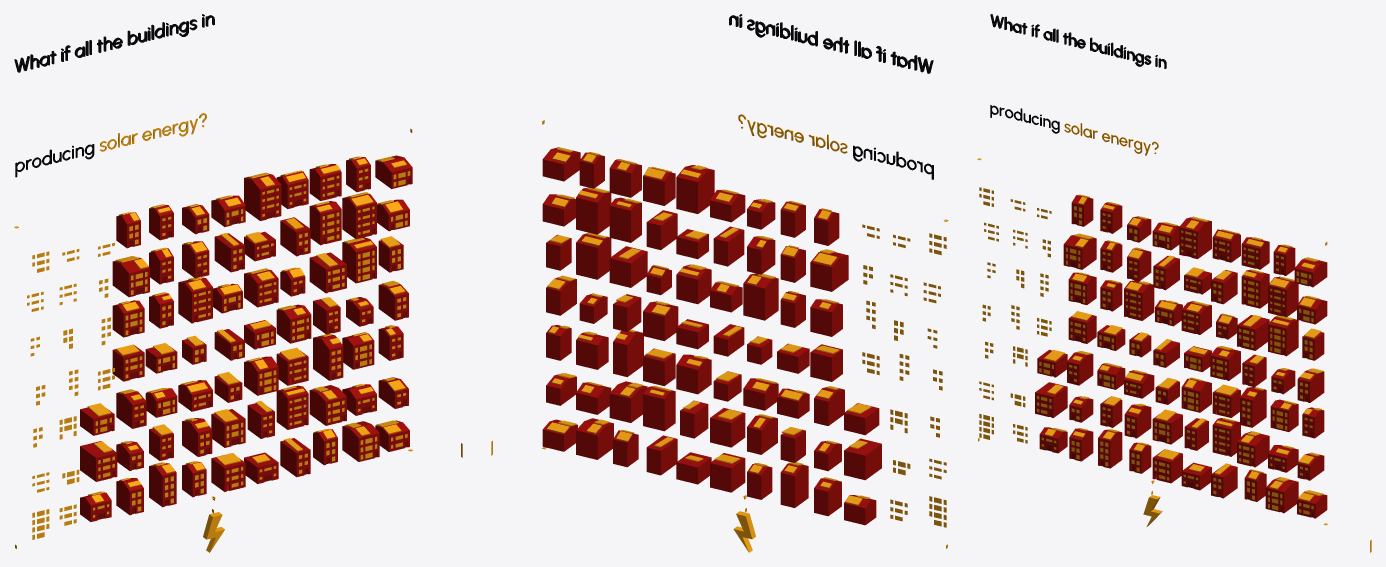
The model's file is Sahne3.gltf.
The picture shows the model from 3 angles, left to right: view 1: azimuth 30°, elevation 25°; view 2: azimuth 150°, elevation 25°; view 3: azimuth 330°, elevation 25°; orthographic projection. The views are drawn at different scales.
Parts seen in each view (by area): view 1: Text.017, Building_049.019, Building_037.019, Building_071.017, Building_061.019, Building_067.019, Building_020.018, Building_072.017, Building_064.019, Building_068.019, Building_076.017, Building_065.019 (+53 smaller); view 2: Text.017, Building_049.019, Building_037.019, Building_071.017, Building_072.017, Building_064.019, Building_061.019, Building_020.018, Building_065.019, Building_067.019, Building_076.017, Building_022.019 (+56 smaller); view 3: Text.017, Building_049.019, Building_037.019, Building_072.017, Building_071.017, Building_067.019, Building_020.018, Building_061.019, Building_076.017, Building_068.019, Building_022.019, Building_064.019 (+48 smaller).
Boxes of the visible parts, box(x1,y1,x2,y2) form: Text.017: box(14, 14, 214, 72); Building_049.019: box(244, 174, 281, 220); Building_037.019: box(178, 277, 212, 323); Building_071.017: box(342, 193, 376, 239); Building_061.019: box(276, 385, 308, 429); Building_067.019: box(313, 335, 343, 380); Building_020.018: box(80, 441, 117, 481); Building_072.017: box(342, 237, 376, 283); Building_064.019: box(309, 201, 341, 245); Building_068.019: box(309, 385, 346, 425); Building_076.017: box(342, 421, 379, 461); Building_065.019: box(309, 252, 346, 293); Text.017: box(729, 14, 933, 73); Building_049.019: box(676, 165, 714, 213); Building_037.019: box(743, 273, 778, 320); Building_071.017: box(576, 188, 611, 234); Building_072.017: box(576, 233, 611, 279); Building_064.019: box(609, 197, 641, 242); Building_061.019: box(643, 386, 675, 431); Building_020.018: box(844, 438, 881, 480); Building_065.019: box(609, 246, 647, 287); Building_067.019: box(613, 330, 643, 377); Building_076.017: box(576, 418, 613, 459); Building_022.019: box(810, 252, 848, 291); Text.017: box(990, 14, 1166, 68); Building_049.019: box(1179, 216, 1211, 259); Building_037.019: box(1124, 280, 1154, 320); Building_072.017: box(1268, 317, 1298, 356); Building_071.017: box(1268, 276, 1298, 317); Building_067.019: box(1240, 387, 1266, 427); Building_020.018: box(1035, 382, 1067, 417); Building_061.019: box(1212, 418, 1240, 456); Building_076.017: box(1265, 477, 1298, 513); Building_068.019: box(1237, 431, 1269, 467); Building_022.019: box(1063, 235, 1096, 269); Building_064.019: box(1241, 269, 1269, 308).
Bounding box in the file's own units: 1.04 × 1.18 × 0.0652.
